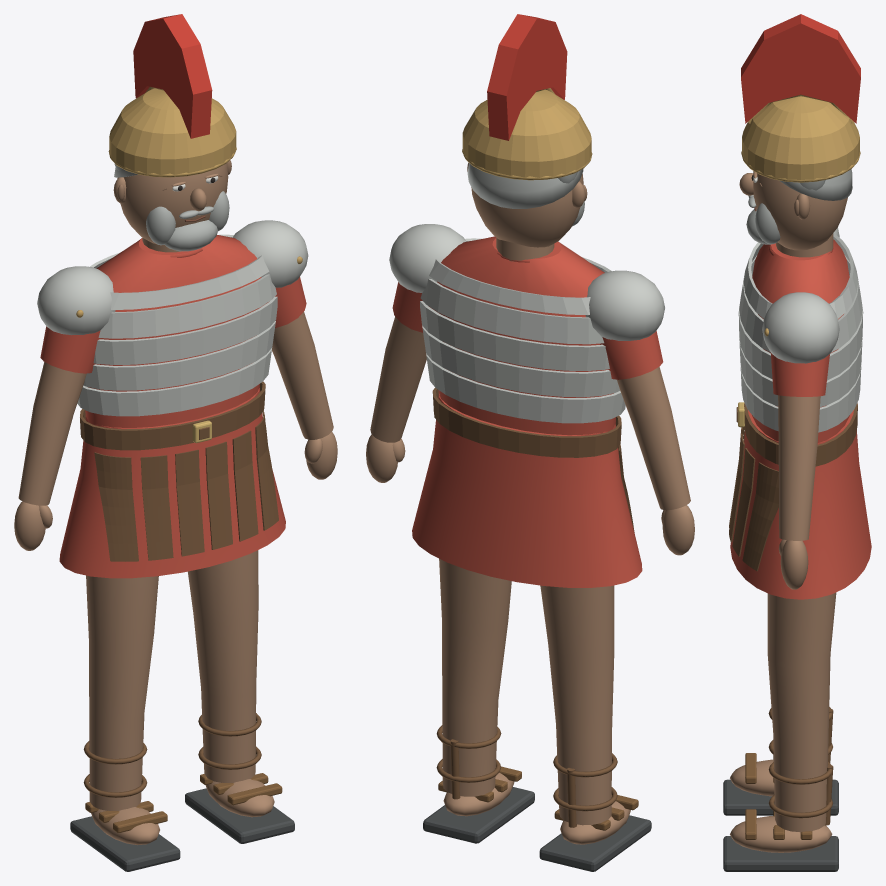
File: soldier_roman_3.glb
The picture shows the model from 3 angles, left to right: view 1: azimuth 30°, elevation 25°; view 2: azimuth 150°, elevation 25°; view 3: azimuth 270°, elevation 25°; orthographic projection.
Visible parts, largest first — view 1: Roman_Soldier_3_Bare_Leg, Roman_Soldier_3_Roman_Short_Red_Tunic, Roman_Soldier_3_Bare_Leg.001, Roman_Soldier_3_Torso_And_Main_Clothes, Roman_Soldier_3_Open_Face_Helmet, Roman_Soldier_3_Attached_Red_Crest, Roman_Soldier_3_Arm_Skin, Roman_Soldier_3_Roman_Torso_Armor_Band, Roman_Soldier_3_Roman_Torso_Armor_Band.001, Roman_Soldier_3_Roman_Torso_Armor_Band.002, Roman_Soldier_3_Roman_Torso_Armor_Band.003, Roman_Soldier_3_Arm_Skin.001 (+21 smaller); view 2: Roman_Soldier_3_Roman_Short_Red_Tunic, Roman_Soldier_3_Bare_Leg, Roman_Soldier_3_Bare_Leg.001, Roman_Soldier_3_Torso_And_Main_Clothes, Roman_Soldier_3_Open_Face_Helmet, Roman_Soldier_3_Attached_Red_Crest, Roman_Soldier_3_Arm_Skin, Roman_Soldier_3_Roman_Torso_Armor_Band, Roman_Soldier_3_Roman_Torso_Armor_Band.001, Roman_Soldier_3_Roman_Torso_Armor_Band.002, Roman_Soldier_3_Roman_Torso_Armor_Band.003, Roman_Soldier_3_Rounded_Shoulder_Armor (+15 smaller); view 3: Roman_Soldier_3_Bare_Leg.001, Roman_Soldier_3_Roman_Short_Red_Tunic, Roman_Soldier_3_Attached_Red_Crest, Roman_Soldier_3_Open_Face_Helmet, Roman_Soldier_3_Arm_Skin.001, Roman_Soldier_3_Torso_And_Main_Clothes, Roman_Soldier_3_Rounded_Shoulder_Armor.001, Roman_Soldier_3_Head, Roman_Soldier_3_Shoe_Sole.001, Roman_Soldier_3_Roman_Leather_Skirt_Strip.005, Roman_Soldier_3_Roman_Torso_Armor_Band, Roman_Soldier_3_Short_Sleeve.001 (+19 smaller).
Boxes of the visible parts, x1=… form: Roman_Soldier_3_Bare_Leg: x1=86, y1=575, x2=158, y2=810; Roman_Soldier_3_Roman_Short_Red_Tunic: x1=59, y1=387, x2=285, y2=578; Roman_Soldier_3_Bare_Leg.001: x1=188, y1=550, x2=258, y2=782; Roman_Soldier_3_Torso_And_Main_Clothes: x1=85, y1=235, x2=269, y2=427; Roman_Soldier_3_Open_Face_Helmet: x1=109, y1=88, x2=236, y2=176; Roman_Soldier_3_Attached_Red_Crest: x1=133, y1=14, x2=212, y2=138; Roman_Soldier_3_Arm_Skin: x1=18, y1=362, x2=86, y2=505; Roman_Soldier_3_Roman_Torso_Armor_Band: x1=77, y1=348, x2=271, y2=416; Roman_Soldier_3_Roman_Torso_Armor_Band.001: x1=83, y1=321, x2=275, y2=390; Roman_Soldier_3_Roman_Torso_Armor_Band.002: x1=93, y1=296, x2=277, y2=364; Roman_Soldier_3_Roman_Torso_Armor_Band.003: x1=98, y1=274, x2=276, y2=338; Roman_Soldier_3_Arm_Skin.001: x1=272, y1=312, x2=333, y2=439; Roman_Soldier_3_Roman_Short_Red_Tunic: x1=412, y1=394, x2=642, y2=587; Roman_Soldier_3_Bare_Leg: x1=540, y1=585, x2=614, y2=825; Roman_Soldier_3_Bare_Leg.001: x1=439, y1=558, x2=511, y2=796; Roman_Soldier_3_Torso_And_Main_Clothes: x1=428, y1=236, x2=615, y2=435; Roman_Soldier_3_Open_Face_Helmet: x1=462, y1=89, x2=591, y2=178; Roman_Soldier_3_Attached_Red_Crest: x1=487, y1=14, x2=567, y2=140; Roman_Soldier_3_Arm_Skin: x1=617, y1=366, x2=690, y2=510; Roman_Soldier_3_Roman_Torso_Armor_Band: x1=426, y1=353, x2=625, y2=423; Roman_Soldier_3_Roman_Torso_Armor_Band.001: x1=422, y1=325, x2=619, y2=397; Roman_Soldier_3_Roman_Torso_Armor_Band.002: x1=420, y1=301, x2=609, y2=370; Roman_Soldier_3_Roman_Torso_Armor_Band.003: x1=420, y1=278, x2=604, y2=344; Roman_Soldier_3_Rounded_Shoulder_Armor: x1=585, y1=270, x2=664, y2=340; Roman_Soldier_3_Bare_Leg.001: x1=767, y1=592, x2=836, y2=832; Roman_Soldier_3_Roman_Short_Red_Tunic: x1=730, y1=410, x2=871, y2=599; Roman_Soldier_3_Attached_Red_Crest: x1=741, y1=14, x2=860, y2=123; Roman_Soldier_3_Open_Face_Helmet: x1=742, y1=96, x2=859, y2=181; Roman_Soldier_3_Arm_Skin.001: x1=778, y1=395, x2=820, y2=540; Roman_Soldier_3_Torso_And_Main_Clothes: x1=752, y1=239, x2=849, y2=442; Roman_Soldier_3_Rounded_Shoulder_Armor.001: x1=762, y1=292, x2=839, y2=363; Roman_Soldier_3_Head: x1=753, y1=171, x2=847, y2=250; Roman_Soldier_3_Shoe_Sole.001: x1=723, y1=836, x2=838, y2=871; Roman_Soldier_3_Roman_Leather_Skirt_Strip.005: x1=742, y1=462, x2=778, y2=571; Roman_Soldier_3_Roman_Torso_Armor_Band: x1=740, y1=365, x2=861, y2=432; Roman_Soldier_3_Short_Sleeve.001: x1=770, y1=352, x2=829, y2=396.
Size of the model in its own units: 0.742 by 1.79 by 0.2962.
